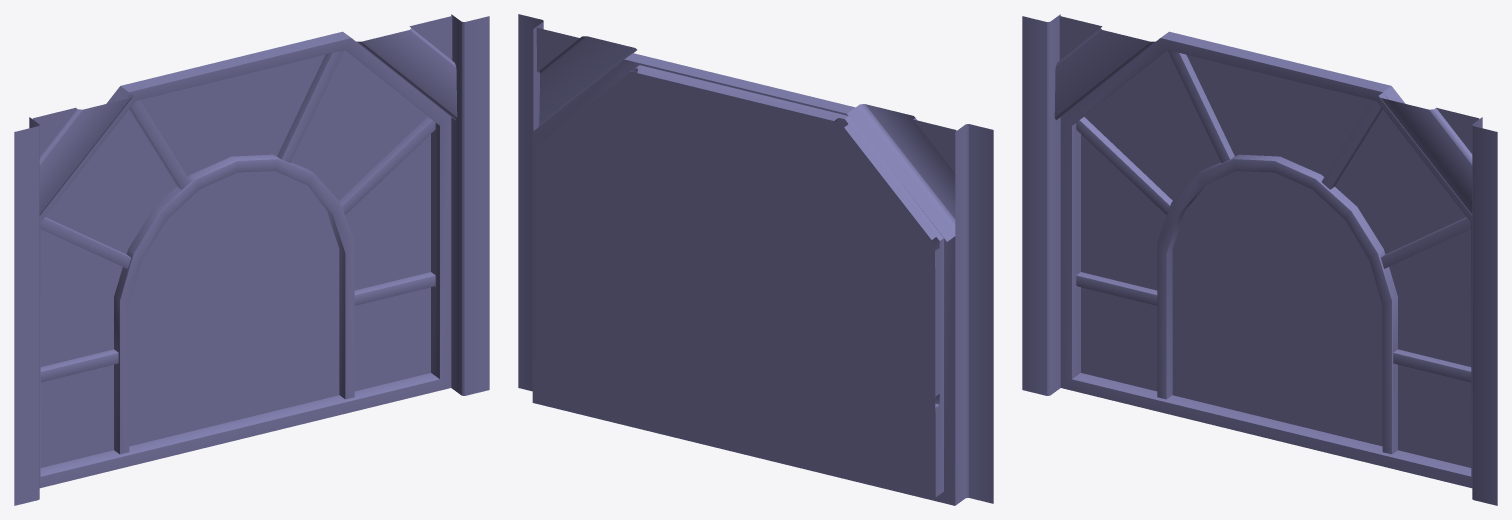
File: M_A_window_04.fbx
3 renders of one model, left to right at view 1: azimuth 30°, elevation 25°; view 2: azimuth 150°, elevation 25°; view 3: azimuth 330°, elevation 25°, orthographic.
Parts seen in each view (by area): view 1: M_A_window_04; view 2: M_A_window_04; view 3: M_A_window_04.
Boxes of the visible parts, x1=… form: M_A_window_04: x1=14, y1=14, x2=489, y2=505; M_A_window_04: x1=518, y1=14, x2=993, y2=505; M_A_window_04: x1=1022, y1=14, x2=1497, y2=505.
Bounding box in the file's own units: 399 × 300 × 29.68.
